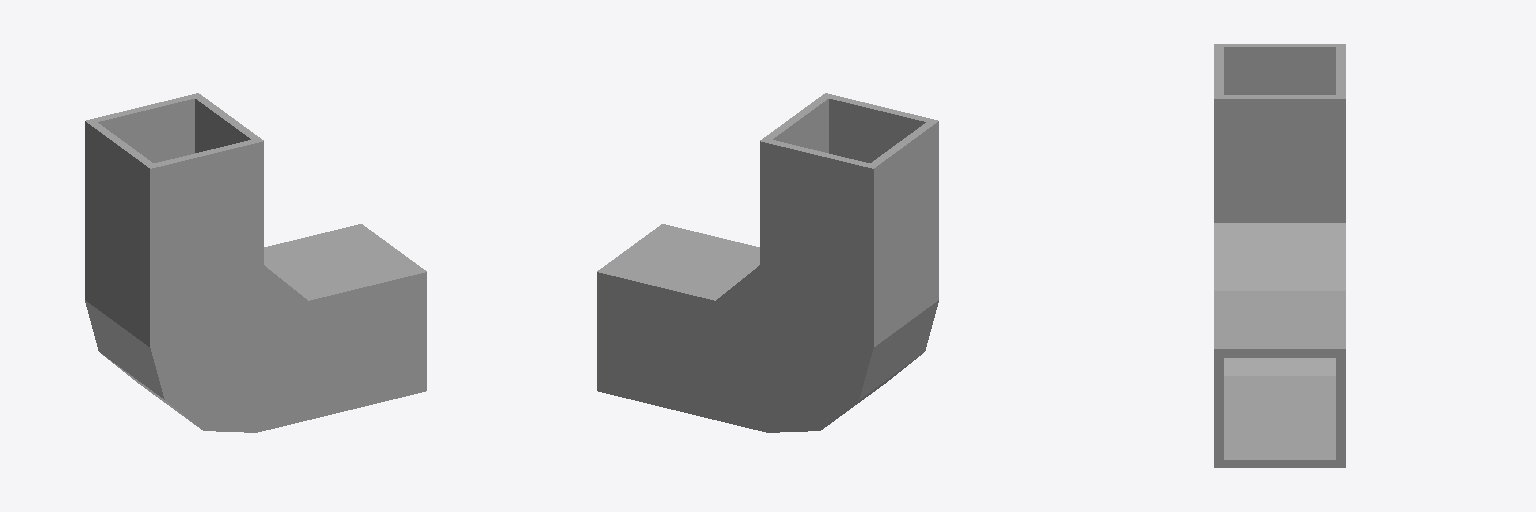
File: ShaftCorner.obj
3 views of the same model, side by side, from view 1: azimuth 30°, elevation 25°; view 2: azimuth 150°, elevation 25°; view 3: azimuth 270°, elevation 25° (orthographic).
Parts seen in each view (by area): view 1: ShaftCorner_Main-Aluminum; view 2: ShaftCorner_Main-Aluminum; view 3: ShaftCorner_Main-Aluminum.
Boxes of the visible parts, box(x1,y1,x2,y2) form: ShaftCorner_Main-Aluminum: box(85, 93, 426, 432); ShaftCorner_Main-Aluminum: box(597, 93, 938, 432); ShaftCorner_Main-Aluminum: box(1214, 44, 1345, 467).
Size of the model in its own units: 3.4 by 3.4 by 1.4.